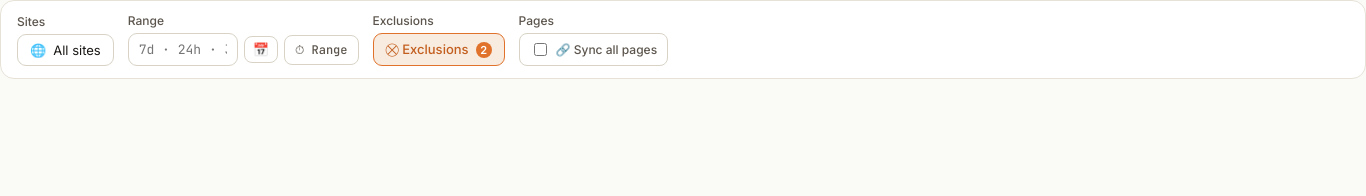
Test case: FilterBar — the date pickers on an ET-day range (a drilled dateEt page) › shows the one ET day 2026-11-01 on both pickers and as the single date Nov 1
The width and height of the screenshot is (1366, 196).
Click the button with class "cal-btn": (261, 50) x1=244 y1=36 x2=278 y2=63
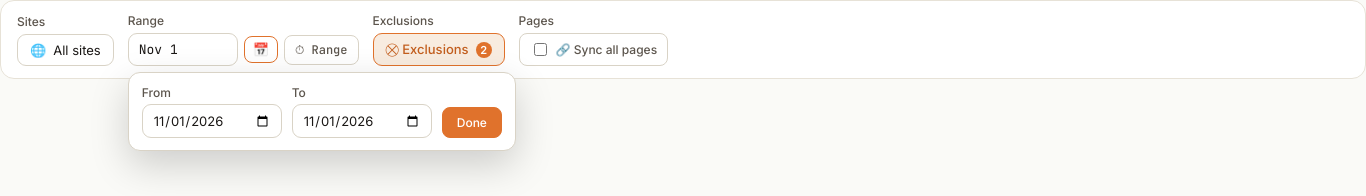
Expected: the field with class "range-field" holds "Nov 1", x1=128 y1=33 x2=238 y2=66
